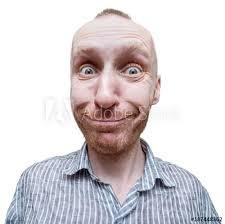white_male: (76, 26, 151, 145)
